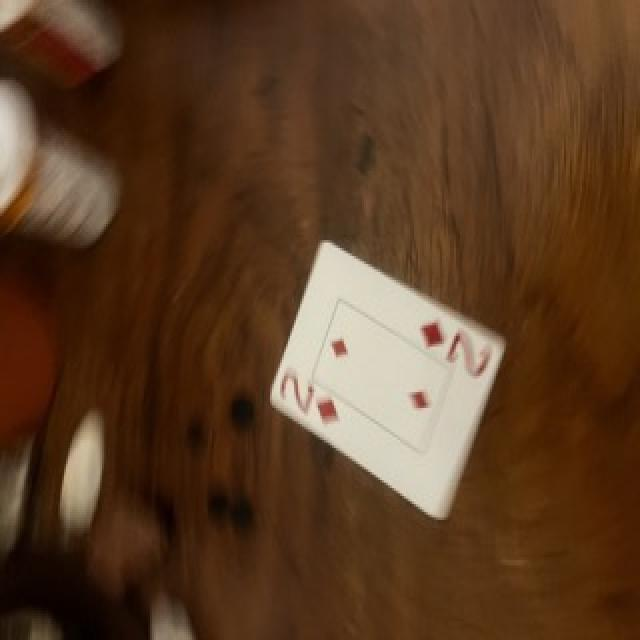2 of diamonds: (271, 242, 505, 518)
